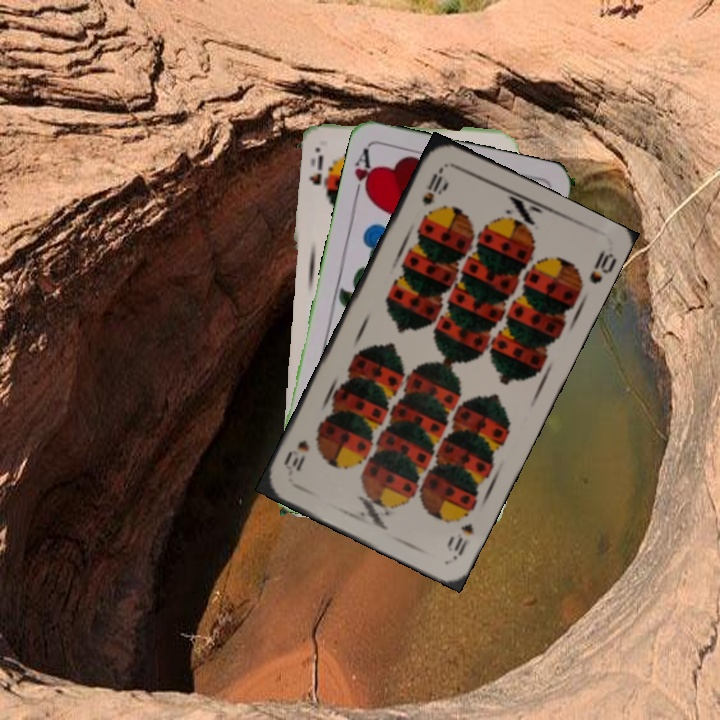HA: (350, 144, 378, 203)
S10: (443, 519, 476, 561), (418, 163, 446, 209)
SO: (306, 151, 325, 188)
